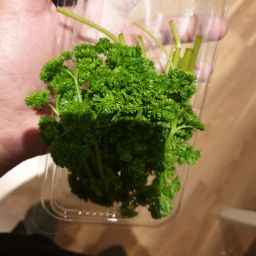Parsley: (4, 62, 180, 218), (37, 4, 185, 169), (54, 33, 205, 155), (31, 59, 145, 113), (97, 73, 174, 141)
